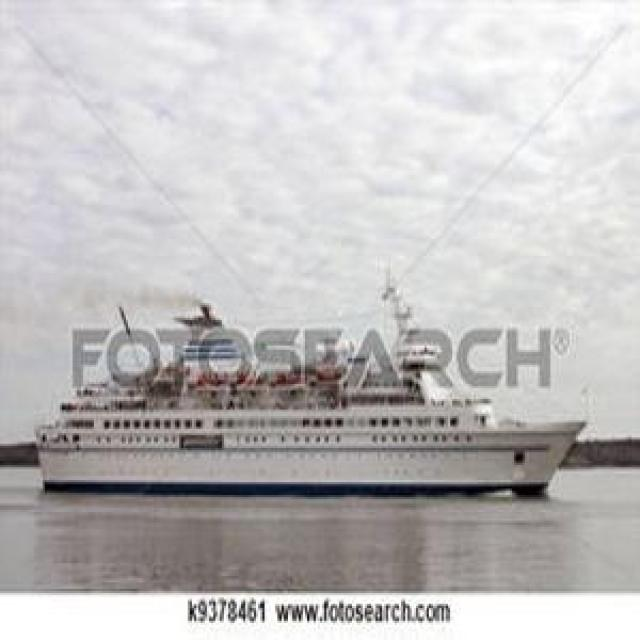passenger ship: (38, 320, 582, 500)
